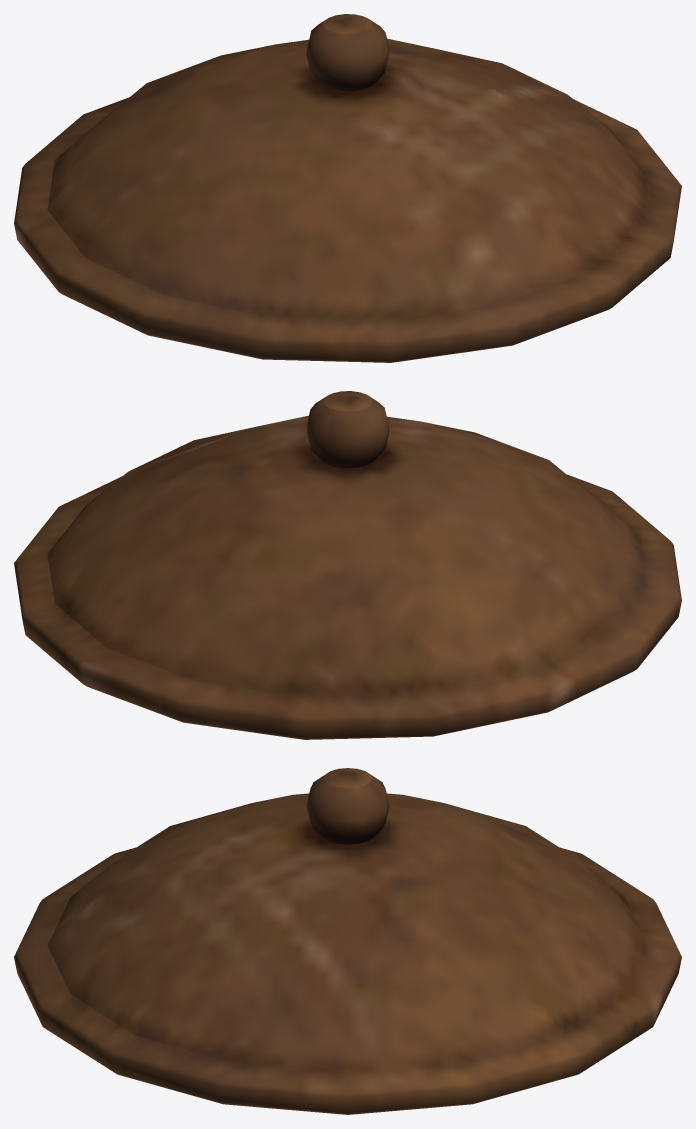
Rendered from potteryLib03.FBX.
The picture shows the model from 3 angles, top to bottom: view 1: azimuth 30°, elevation 25°; view 2: azimuth 150°, elevation 25°; view 3: azimuth 270°, elevation 25°; orthographic projection.
Parts seen in each view (by area): view 1: SM_PotteryLib03; view 2: SM_PotteryLib03; view 3: SM_PotteryLib03.
Boxes of the visible parts, x1=… form: SM_PotteryLib03: x1=14, y1=14, x2=681, y2=362; SM_PotteryLib03: x1=14, y1=391, x2=681, y2=739; SM_PotteryLib03: x1=14, y1=768, x2=681, y2=1114.
Bounding box in the file's own units: 16.67 × 5.58 × 16.67.
Materials: 1 (1 with a texture image).
